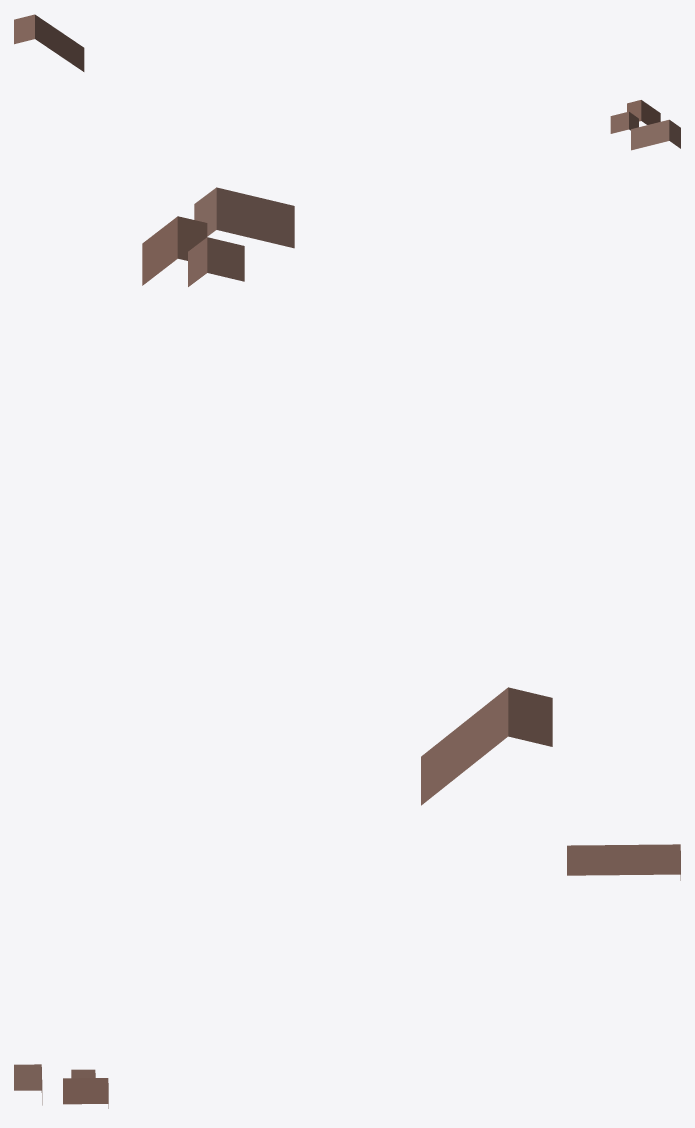
Rendered from c_1631_17829_buildings_residential.glb.
3 views of the same model, one above another, from view 1: azimuth 30°, elevation 25°; view 2: azimuth 150°, elevation 25°; view 3: azimuth 270°, elevation 25° (orthographic). The views are drawn at different scales.
Parts seen in each view (by area): view 1: geometry_0; view 2: geometry_0; view 3: geometry_0.
Boxes of the visible parts, x1,y1,x2,y2 form: geometry_0: [14, 14, 680, 150]; geometry_0: [142, 187, 552, 805]; geometry_0: [14, 844, 680, 1108].
Bounding box in the file's own units: 185 × 12.12 × 221.
